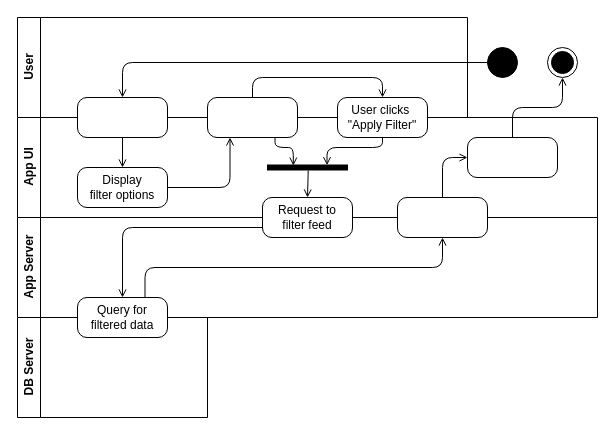
The diagram is 615 pixels wide and 435 high, and some of its shapes have lost their labels. The centre of each missing label's shape, as x and y in pixels:
"Display filtered feed" goes at (x=512, y=157).
"Respond with filtered data" goes at (x=442, y=217).
"User clicks an option" goes at (x=252, y=117).
"User clicks filter button" goes at (x=122, y=117).
